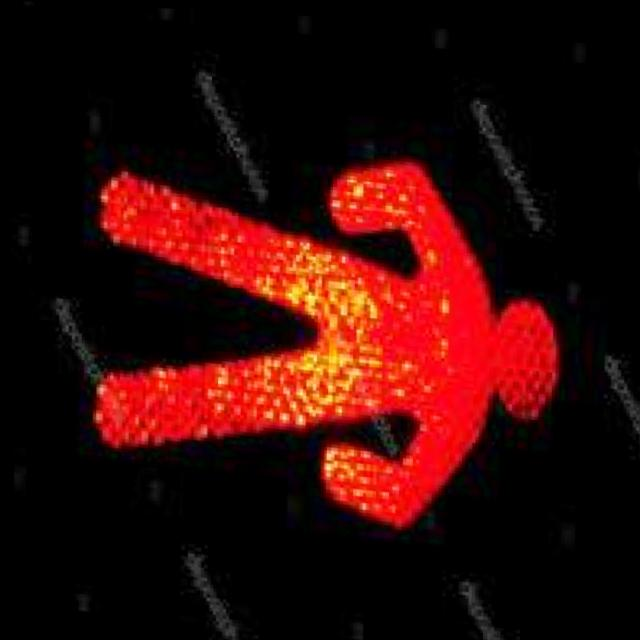red_light: (31, 52, 571, 546)
